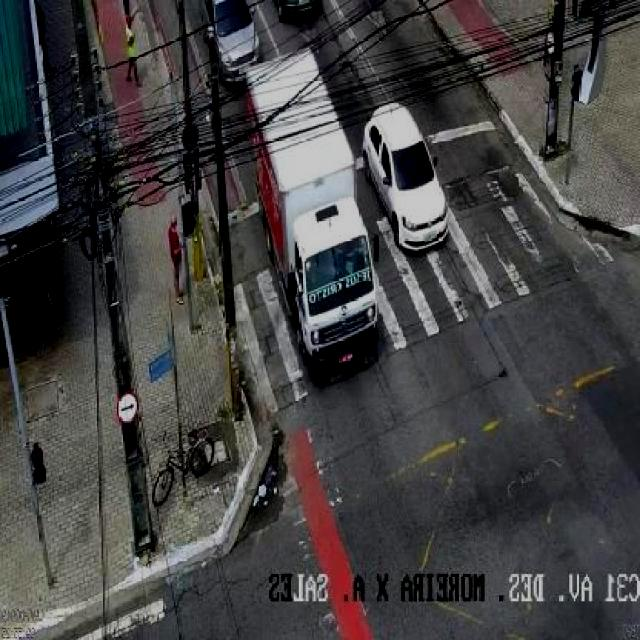Car: (362, 102, 447, 254), (199, 0, 264, 82)
Cycle: (150, 427, 214, 511)
Truck: (240, 50, 383, 368)
